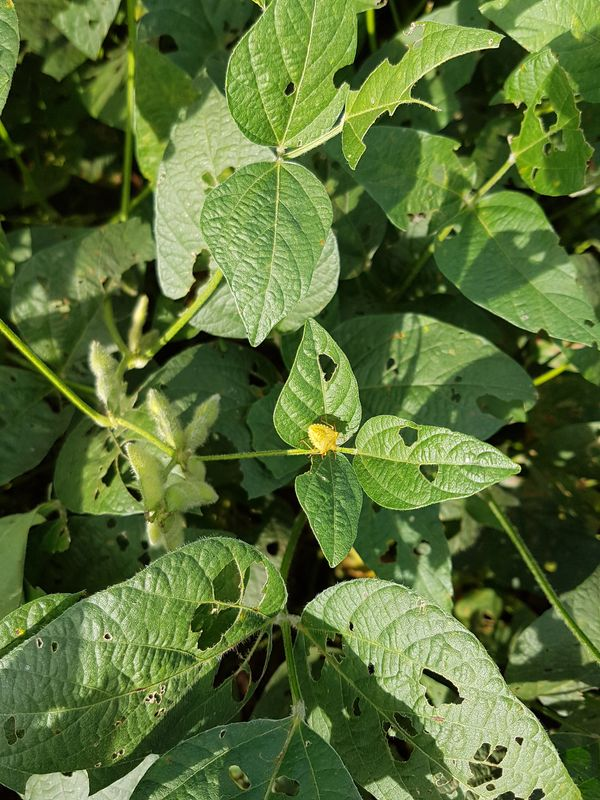Euschistus_heros_ninfa: (290, 412, 349, 466)
